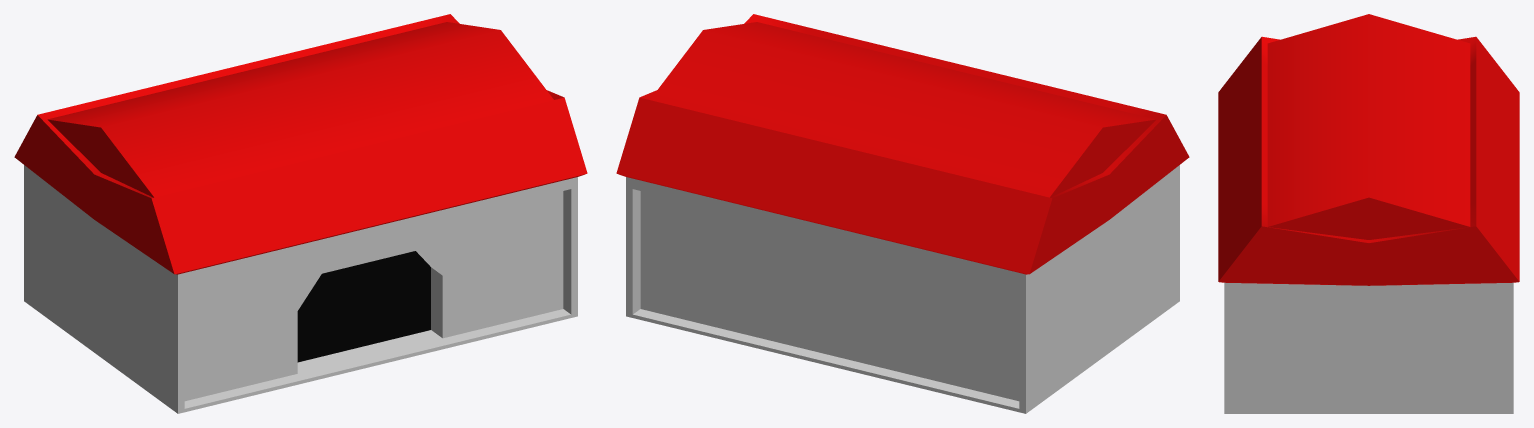
File: Building.fbx
3 views of the same model, side by side, from view 1: azimuth 30°, elevation 25°; view 2: azimuth 150°, elevation 25°; view 3: azimuth 270°, elevation 25° (orthographic). The views are drawn at different scales.
Parts seen in each view (by area): view 1: pCube1; view 2: pCube1; view 3: pCube1.
Boxes of the visible parts, box(x1,y1,x2,y2) form: pCube1: box(14, 14, 587, 413); pCube1: box(616, 14, 1189, 413); pCube1: box(1218, 14, 1519, 413).
Size of the model in its own units: 6.2 by 3.3 by 4.16.
